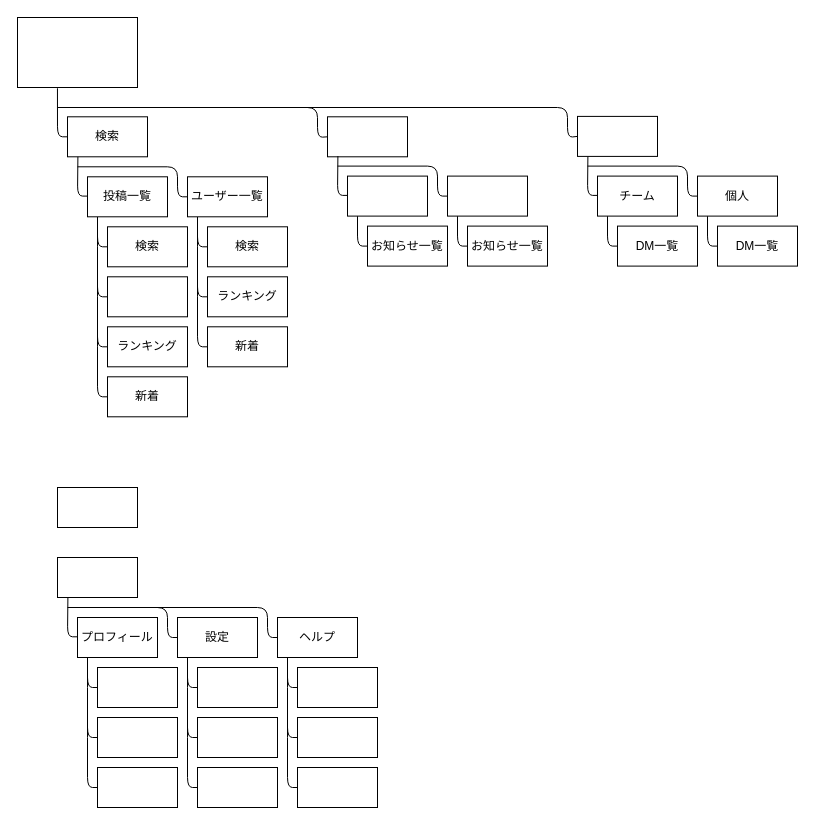
Image size: 815x825. Some labels were removed from this diagram. Here are the shapes that lost their labels. From the top down, the centre of each, then its label:
At [77,52]: "HOME タイムライン".
At [367,136]: "お知らせ".
At [617,135]: "DM".
At [387,195]: "運営".
At [487,195]: "アクティ ビティ".
At [147,296]: "タグ".
At [97,507]: "ログイン/ サインイン".
At [97,577]: "メニュー".
